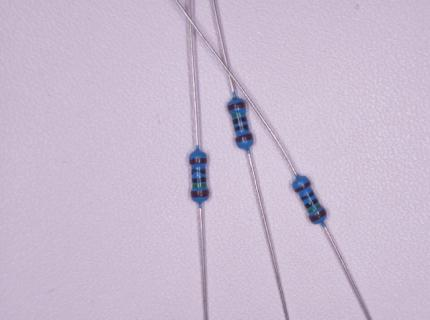Black band: (301, 191, 315, 202), (305, 198, 319, 209), (235, 124, 249, 132), (233, 117, 248, 124), (192, 168, 206, 174), (192, 178, 206, 183)
Brown band: (309, 209, 327, 222), (295, 180, 312, 193), (228, 101, 246, 111), (236, 133, 253, 143), (191, 190, 209, 198), (189, 158, 207, 165)
Green band: (308, 203, 322, 213), (231, 111, 246, 118), (193, 184, 207, 188)
